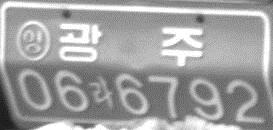0: (17, 68, 52, 111)
2: (225, 78, 265, 123)
6: (53, 69, 88, 112), (114, 72, 148, 115)
7: (148, 74, 181, 120)
9: (187, 77, 223, 120)
광주_D: (58, 22, 202, 67)
라: (88, 74, 113, 107)
영: (15, 20, 51, 61)
